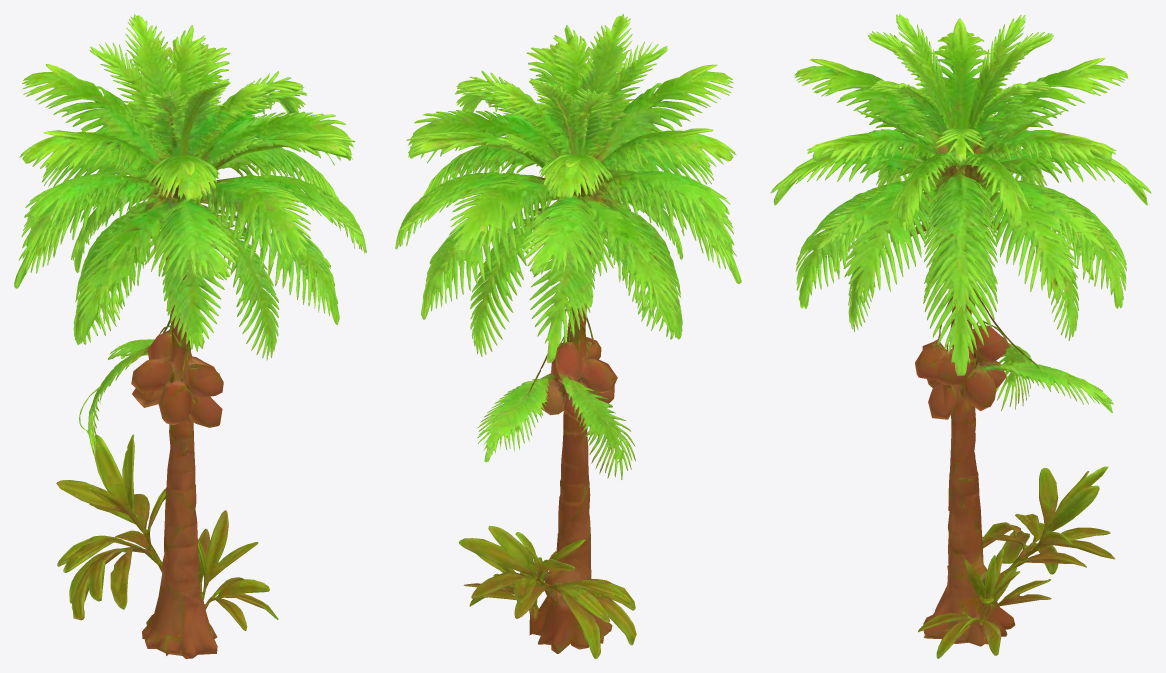
Rendered from tree_palm_tall.glb.
The picture shows the model from 3 angles, left to right: view 1: azimuth 30°, elevation 25°; view 2: azimuth 150°, elevation 25°; view 3: azimuth 270°, elevation 25°; orthographic projection.
Bounding box in the file's own units: 1.05 × 1.9 × 1.1.
1 material, 1 textured.
